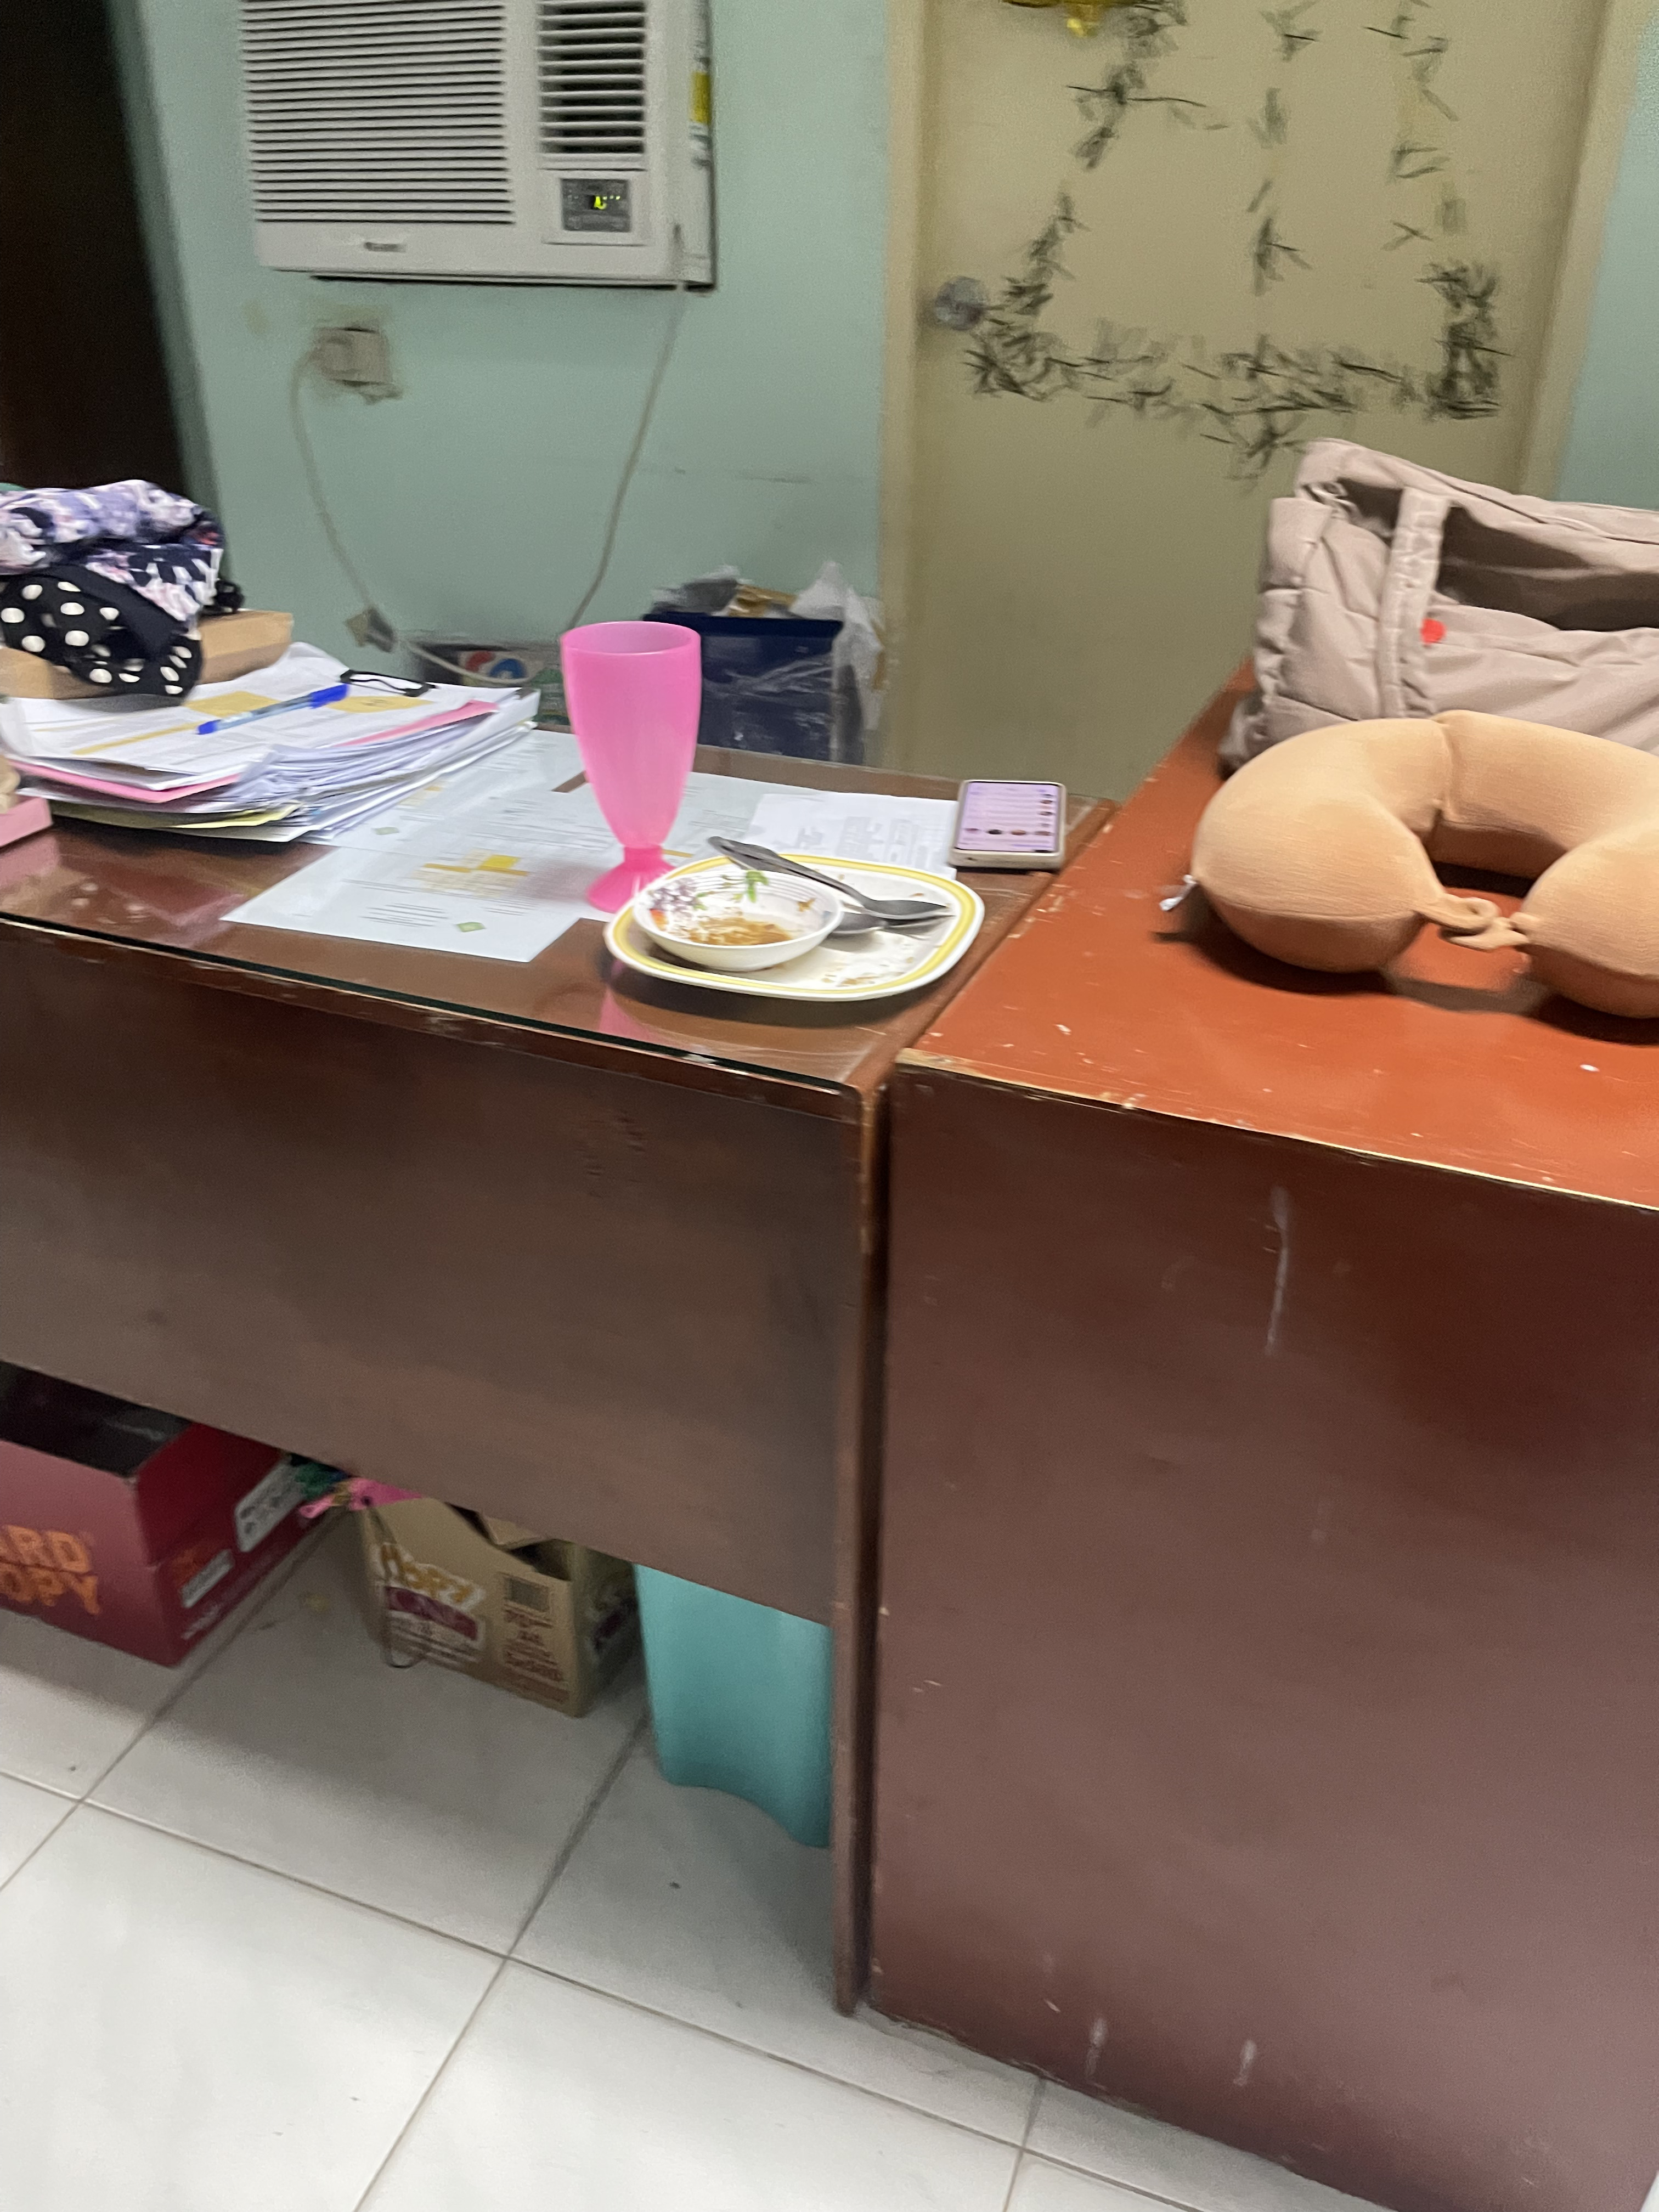table2: (5, 660, 1659, 2212)
